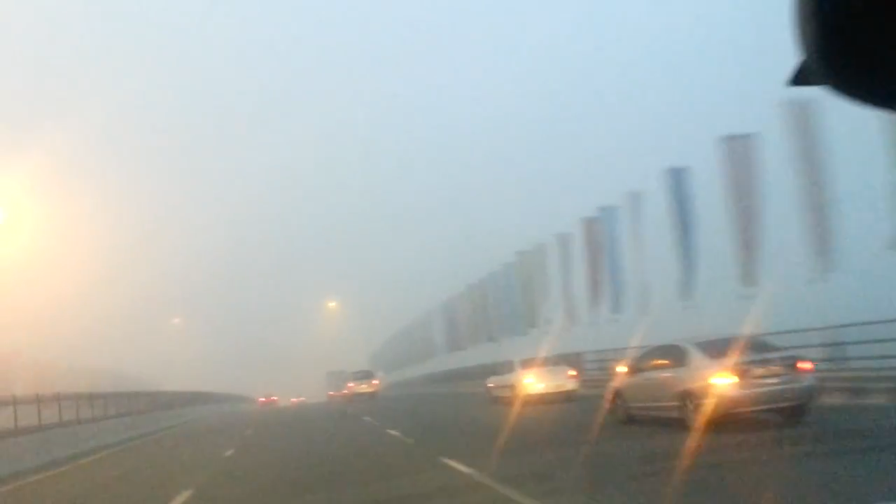car: (595, 333, 820, 433), (486, 355, 582, 407), (343, 369, 384, 398), (321, 369, 351, 399), (256, 392, 280, 407), (287, 394, 308, 405)
